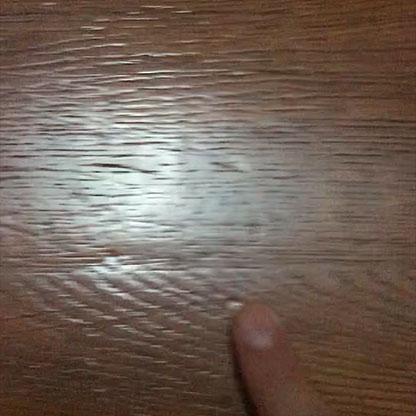fingertip: (219, 292, 297, 373)
